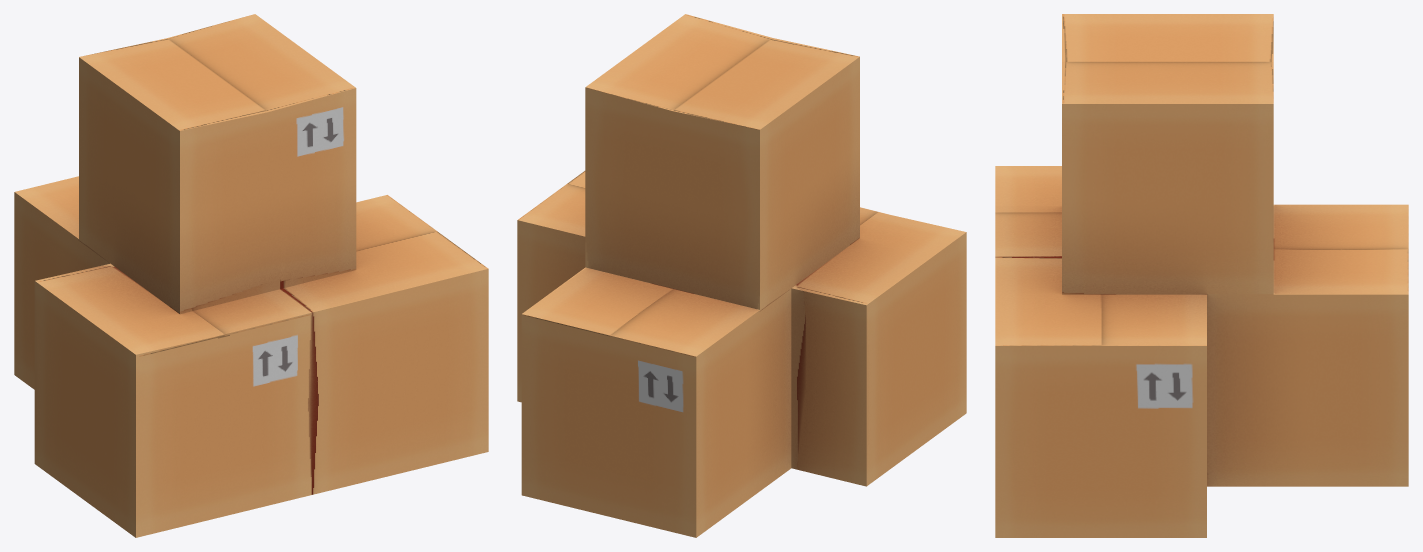
Rendered from cardboards_meged.fbx.
3 views of the same model, side by side, from view 1: azimuth 30°, elevation 25°; view 2: azimuth 150°, elevation 25°; view 3: azimuth 270°, elevation 25° (orthographic). The views are drawn at different scales.
Parts seen in each view (by area): view 1: Cardboards_merged; view 2: Cardboards_merged; view 3: Cardboards_merged.
Boxes of the visible parts, x1,y1,x2,y2 form: Cardboards_merged: [14, 14, 488, 537]; Cardboards_merged: [517, 14, 966, 537]; Cardboards_merged: [995, 14, 1408, 537].
Size of the model in its own units: 403 by 399 by 390.
